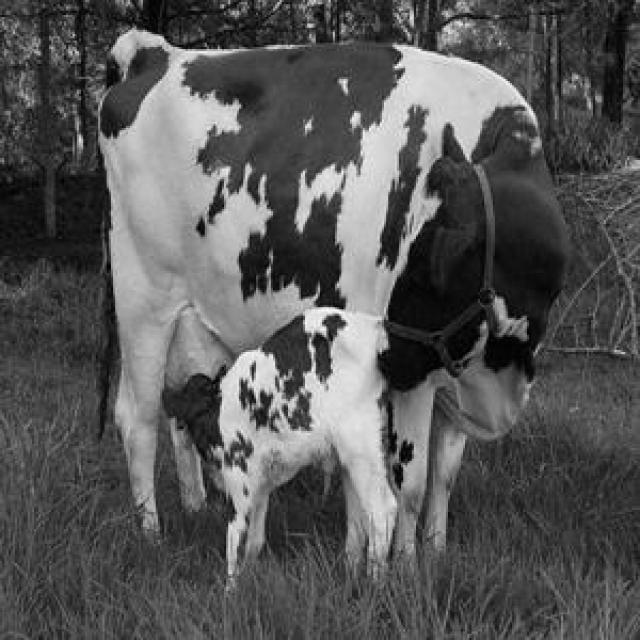cow: (99, 30, 569, 557), (164, 308, 398, 577)
